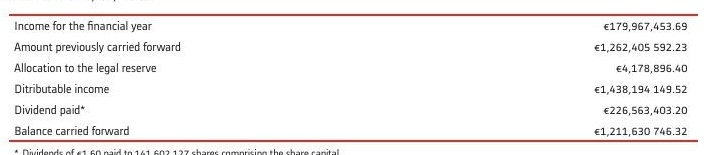table: (0, 0, 720, 155)
